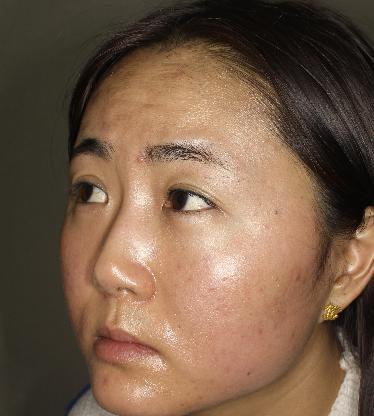Blackheads: (266, 205, 285, 220), (243, 368, 255, 381)
acne scar: (100, 370, 113, 388)
